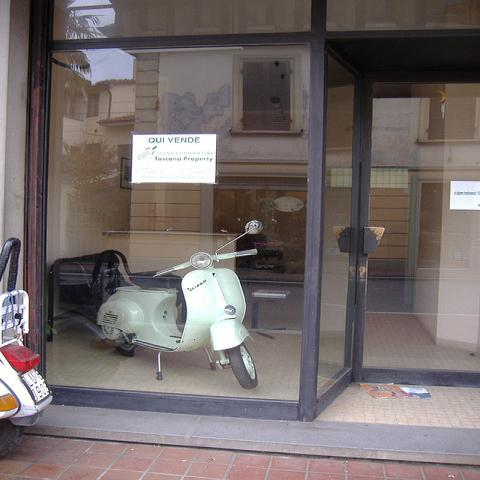motorcycle: (96, 220, 264, 390), (3, 240, 55, 439)
